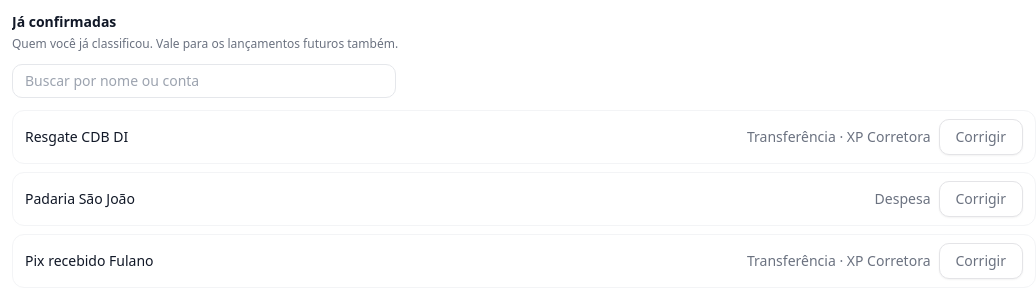
Test: RegrasConfirmadas — busca › filtra pelo nome ignorando acento e mostra o contador
Type "sao joao" into the search field named "Buscar regra".
click(204, 81); type("sao joao")  # box [12,64,396,98]
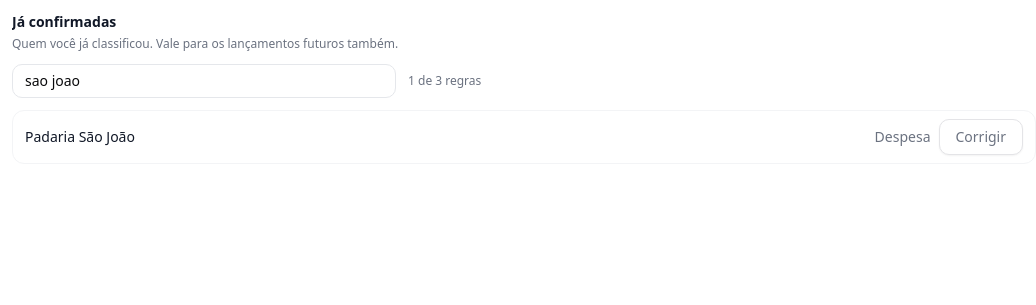
Check: the text "Padaria São João" is shown, box [25,127,135,147]
Check: the text "Resgate CDB DI" is gone
Check: the text "1 de 3 regras" is shown, box [408,73,481,89]
